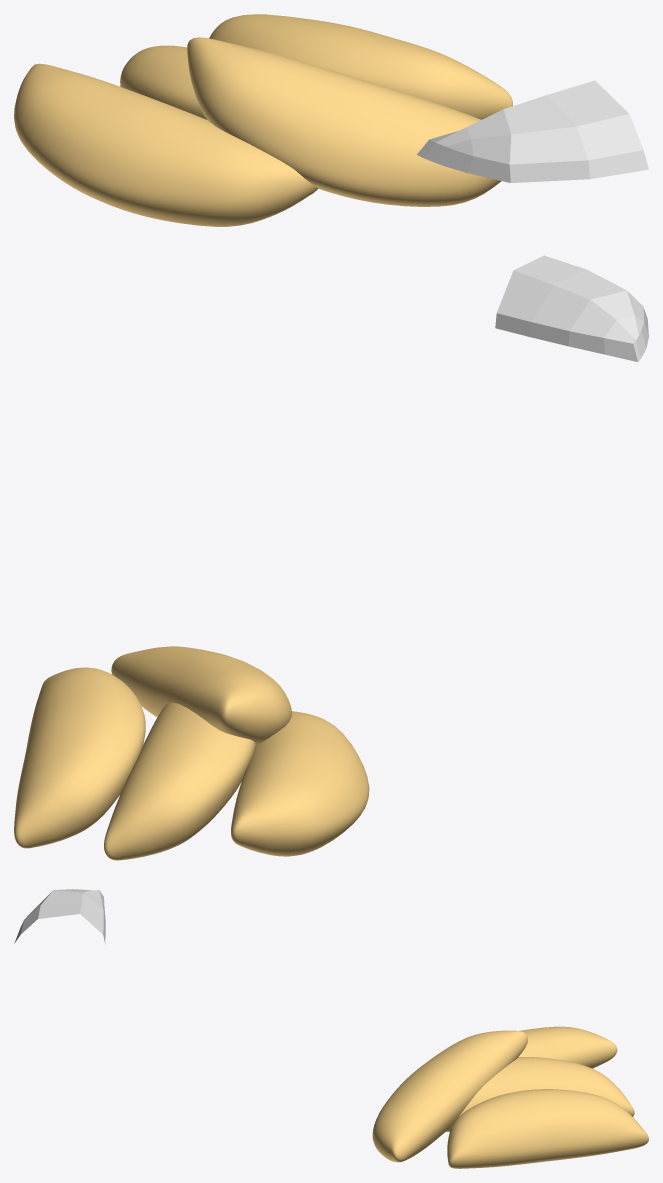
The model's file is empanada_01.glb.
3 views of the same model, one above another, from view 1: azimuth 30°, elevation 25°; view 2: azimuth 150°, elevation 25°; view 3: azimuth 270°, elevation 25° (orthographic). The views are drawn at different scales.
Parts seen in each view (by area): view 1: Mesh.005, Mesh.008, Mesh.004, Mesh.006, Mesh.007; view 2: Mesh.006, Mesh.008, Mesh.007, Mesh.004, Mesh.005; view 3: Mesh.006, Mesh.005, Mesh.007, Mesh.008, Mesh.004.
Part boxes in pixels (box(x1,y1,x2,y2)): Mesh.005: box(187, 37, 501, 206); Mesh.008: box(14, 63, 318, 226); Mesh.004: box(417, 80, 648, 182); Mesh.006: box(209, 14, 512, 119); Mesh.007: box(120, 45, 207, 119); Mesh.006: box(14, 667, 145, 848); Mesh.008: box(231, 711, 369, 856); Mesh.007: box(104, 702, 255, 860); Mesh.004: box(495, 255, 648, 361); Mesh.005: box(111, 646, 291, 745); Mesh.006: box(447, 1089, 648, 1168); Mesh.005: box(372, 1030, 527, 1162); Mesh.007: box(446, 1057, 634, 1131); Mesh.008: box(518, 1026, 617, 1068); Mesh.004: box(14, 889, 105, 944).
Bounding box in the file's own units: 5.13 × 4.19 × 11.37.
